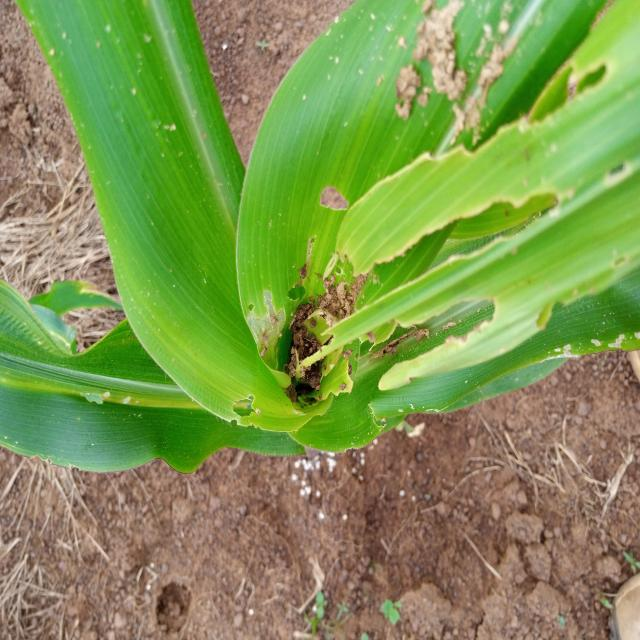fall-armyworm-egg: (354, 4, 525, 152), (267, 236, 387, 422), (98, 25, 216, 194), (41, 23, 108, 90)
fall-armyworm-larval-damage: (312, 183, 564, 325), (338, 286, 522, 408), (490, 37, 621, 145), (54, 362, 115, 432), (212, 378, 266, 437)
